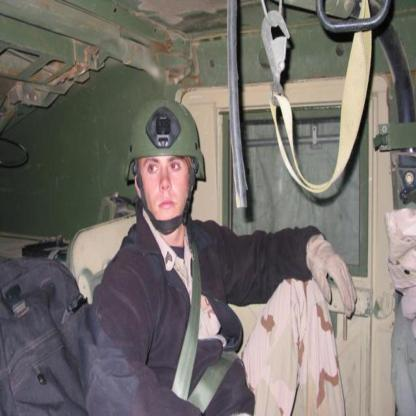Helmet: (126, 105, 206, 241)
